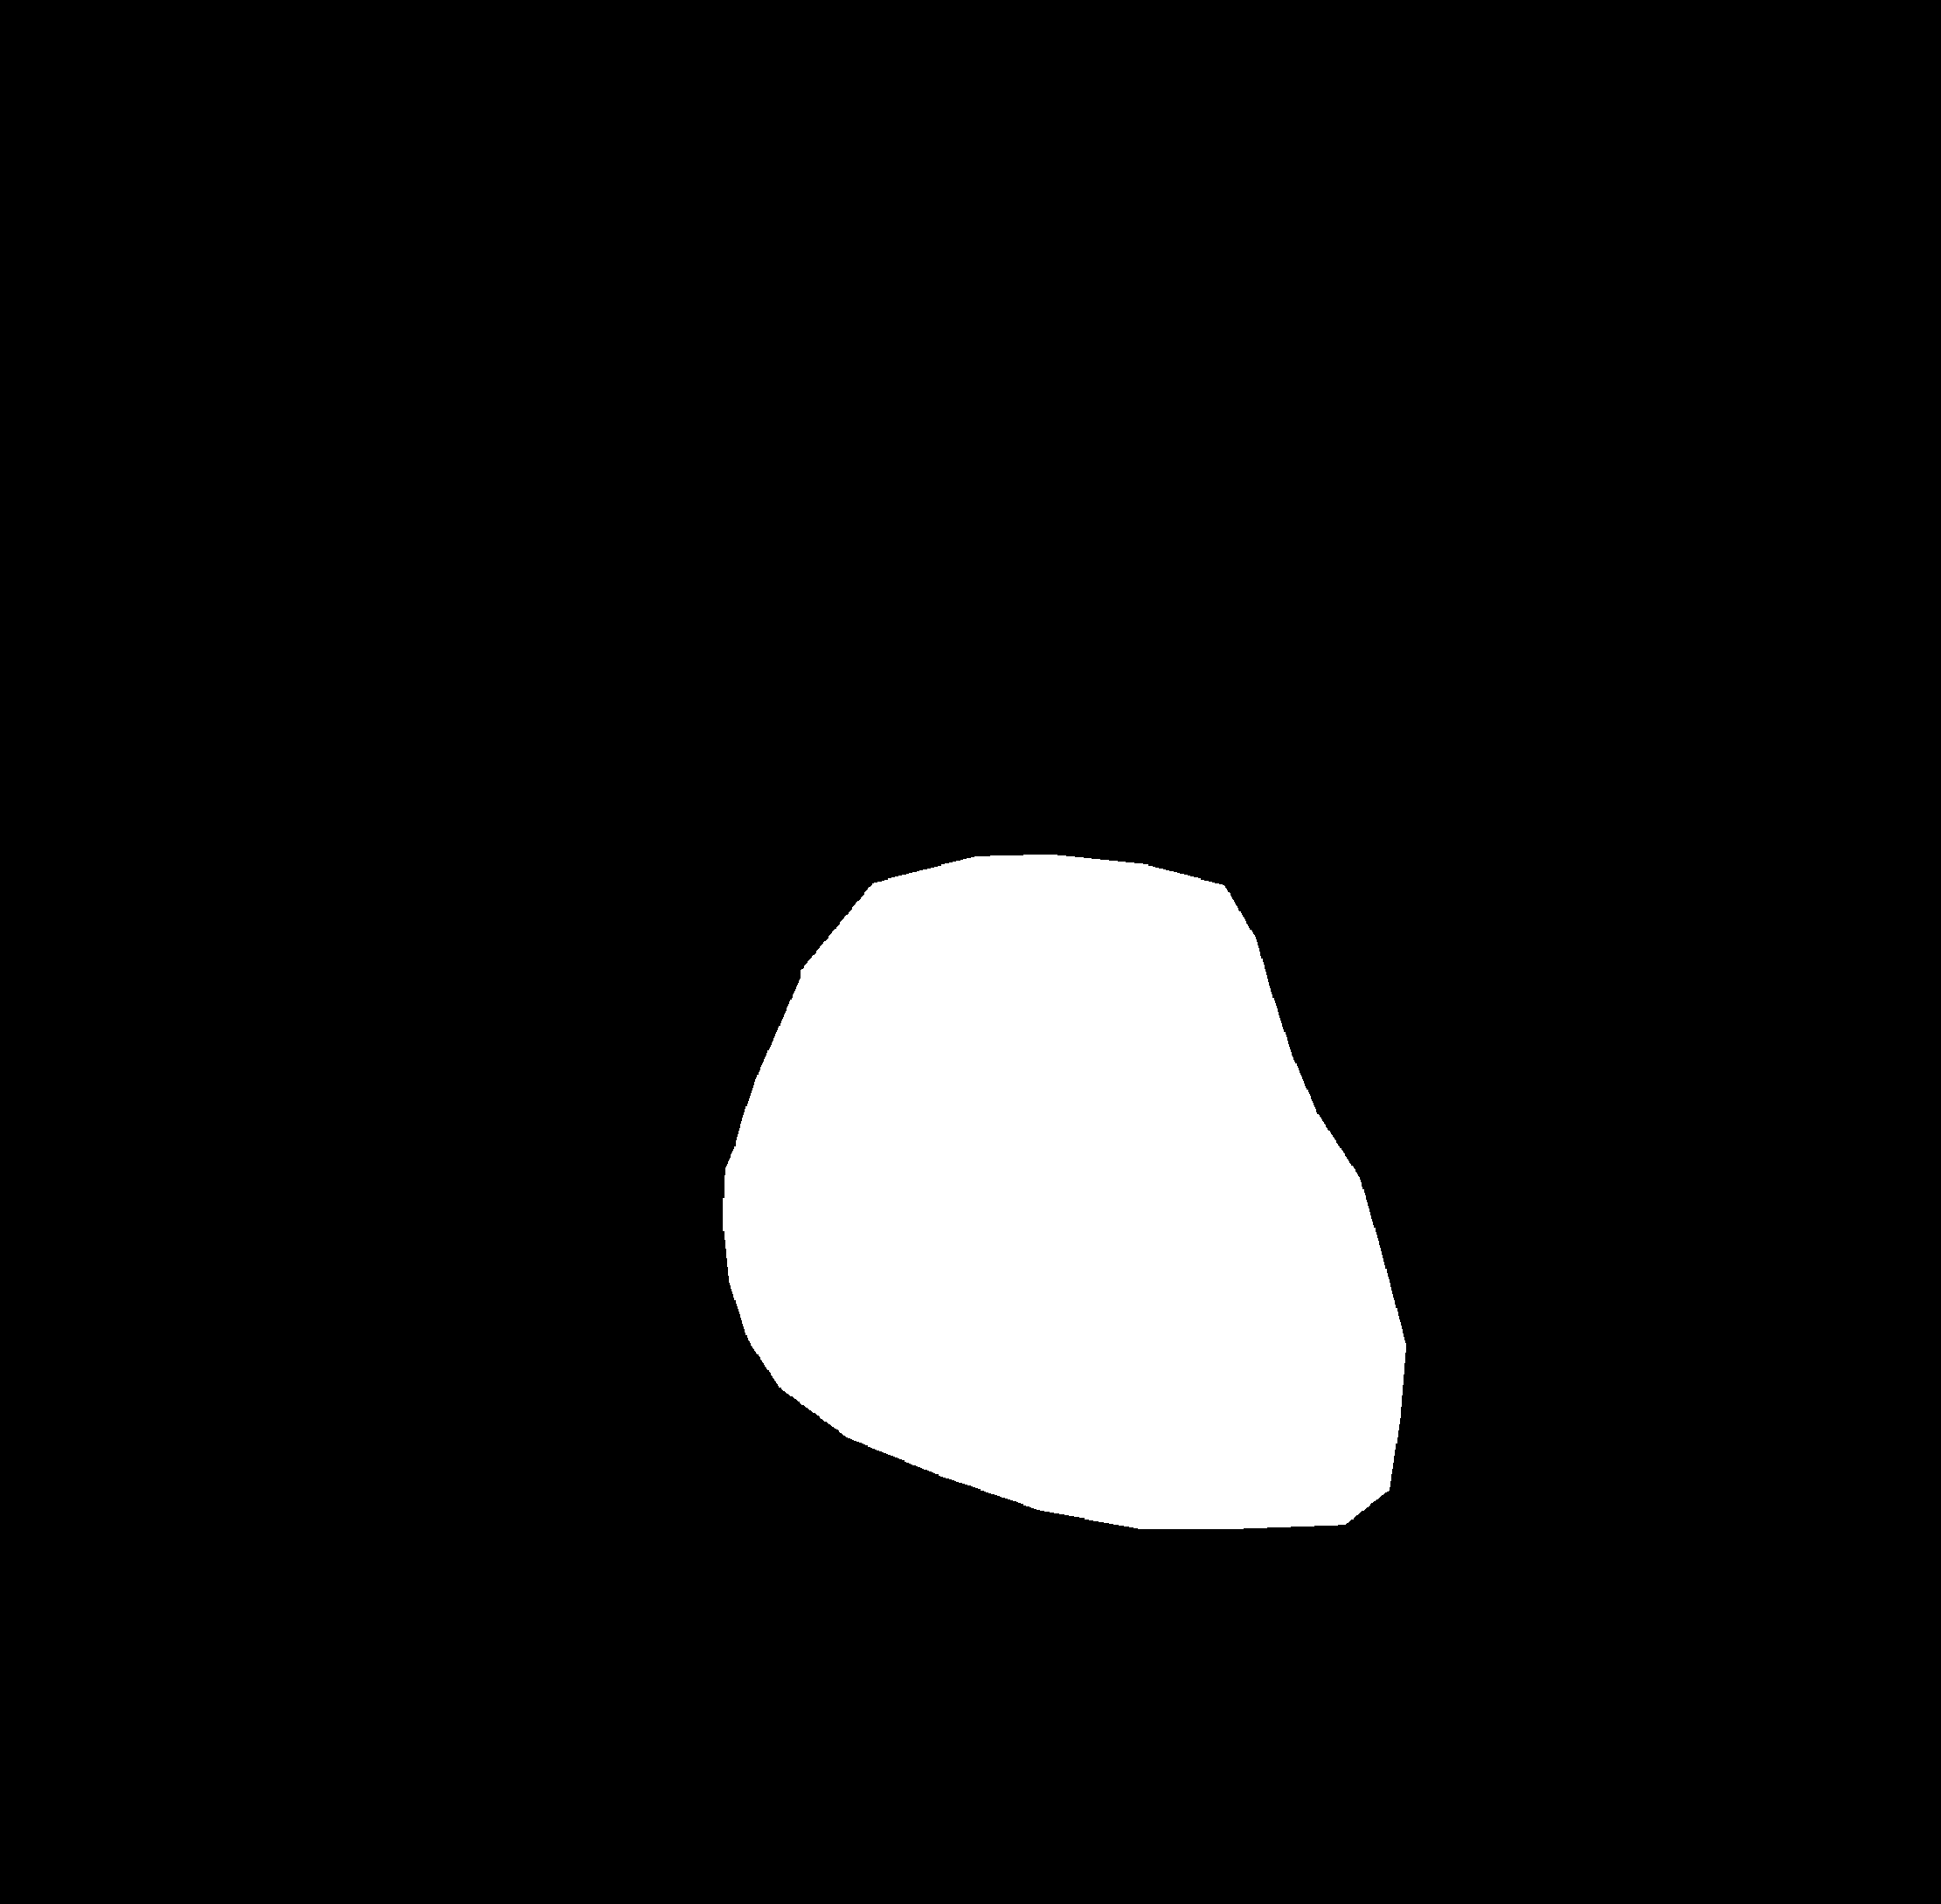heart: (724, 1008, 1411, 1561)
left_lung: (248, 234, 860, 1353)
right_lung: (1043, 227, 1702, 1820)
